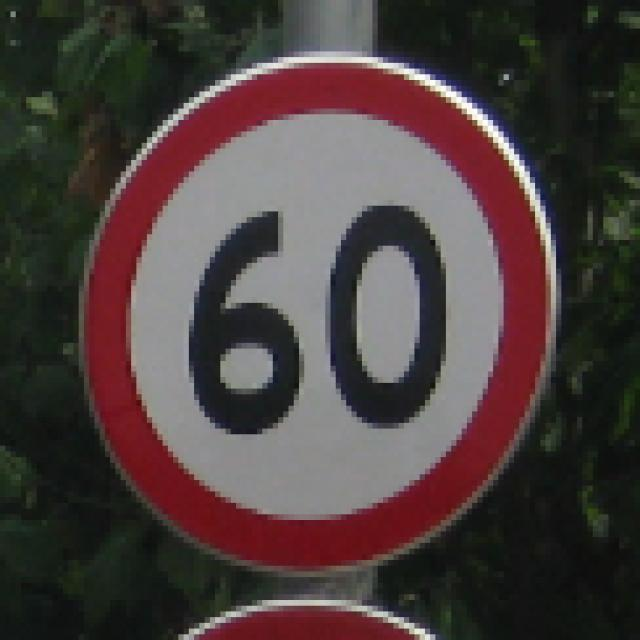speed limit 60: (77, 54, 553, 579)
